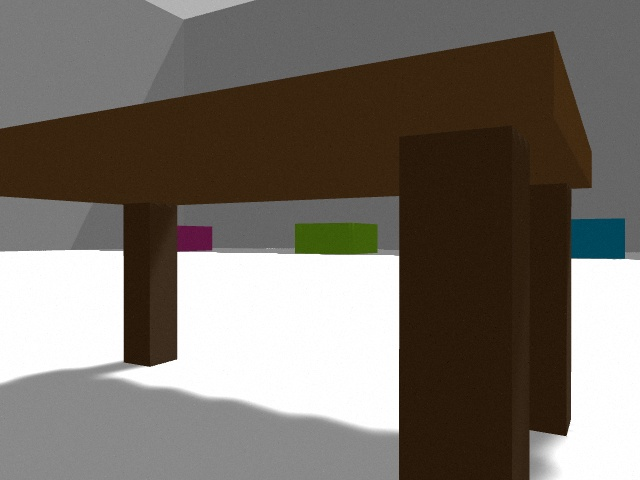blue_drop_zone: (572, 218, 625, 259)
green_drop_zone: (295, 223, 378, 254)
red_drop_zone: (177, 226, 212, 252)
